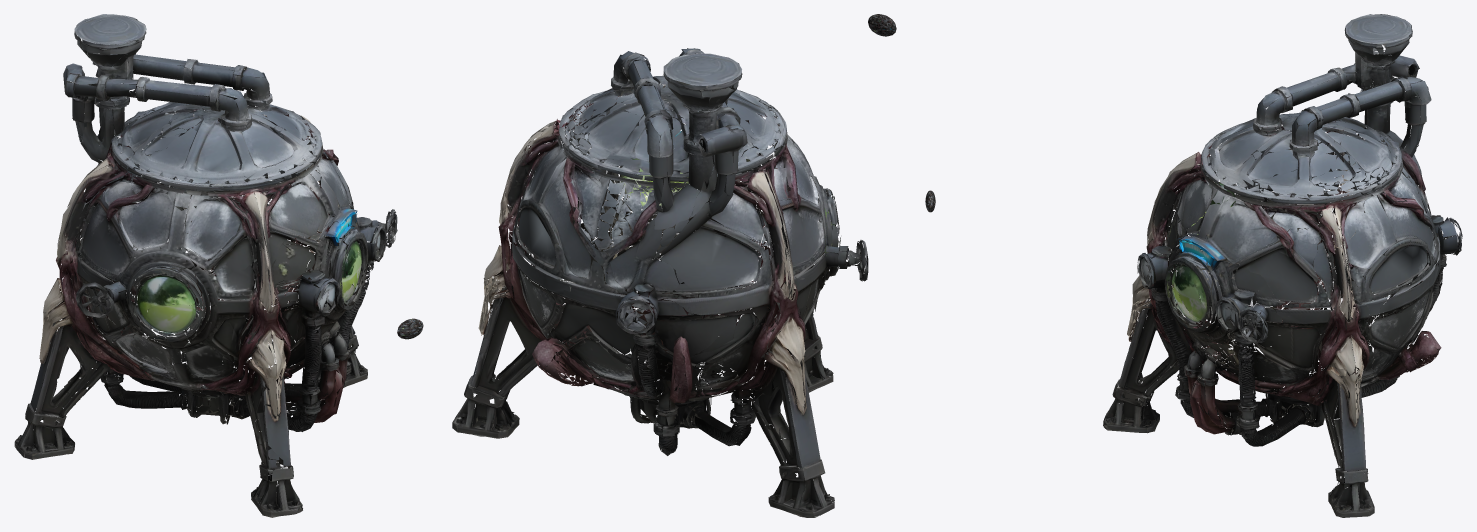
File: sump_chemical_neutralizer_vat.glb
3 renders of one model, left to right at view 1: azimuth 30°, elevation 25°; view 2: azimuth 150°, elevation 25°; view 3: azimuth 270°, elevation 25°, orthographic. The views are drawn at different scales.
Parts seen in each view (by area): view 1: node_0; view 2: node_0, HB_PULSE_00; view 3: node_0.
Boxes of the visible parts, bbox=[...] form: node_0: bbox=[14, 14, 397, 517]; node_0: bbox=[452, 48, 868, 517]; HB_PULSE_00: bbox=[868, 14, 896, 36]; node_0: bbox=[1103, 14, 1462, 517].
Size of the model in its own units: 0.7779 by 0.8574 by 1.09.
1 material, 1 textured.
